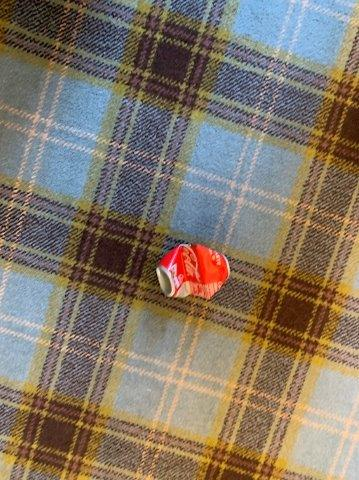kaleng: (155, 244, 231, 300)
